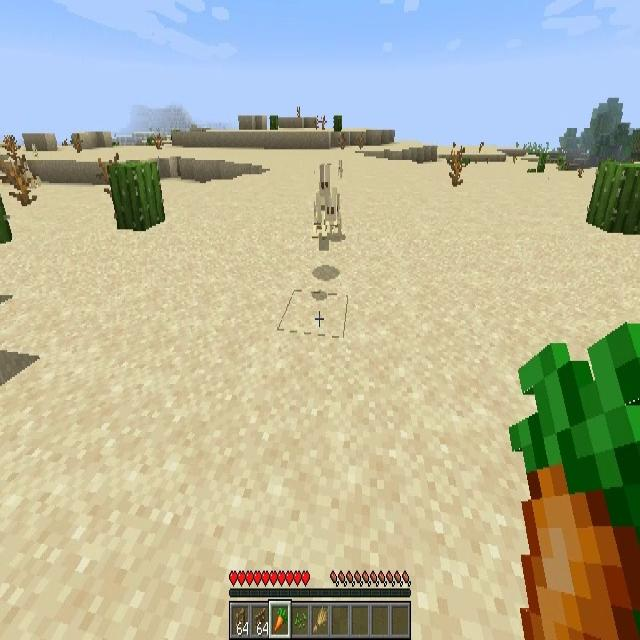rabbit: (314, 166, 337, 226), (327, 189, 342, 233), (314, 194, 329, 236), (337, 160, 343, 178)
